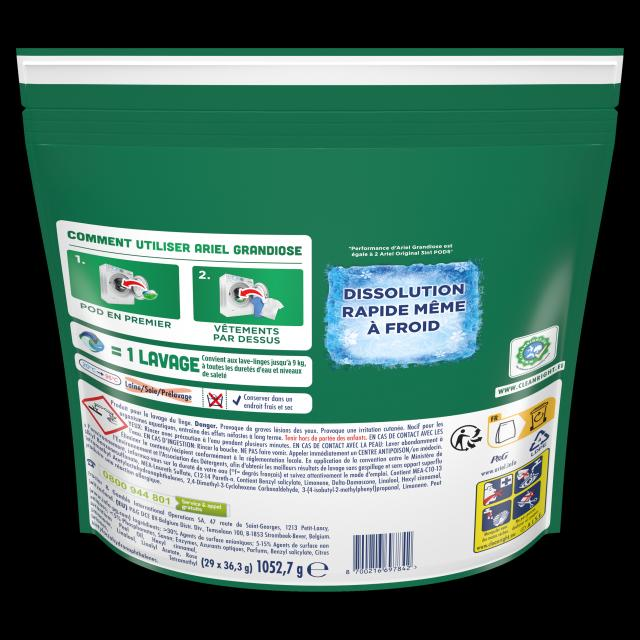GHS_Symbol_CORROSION: (82, 394, 128, 434)
